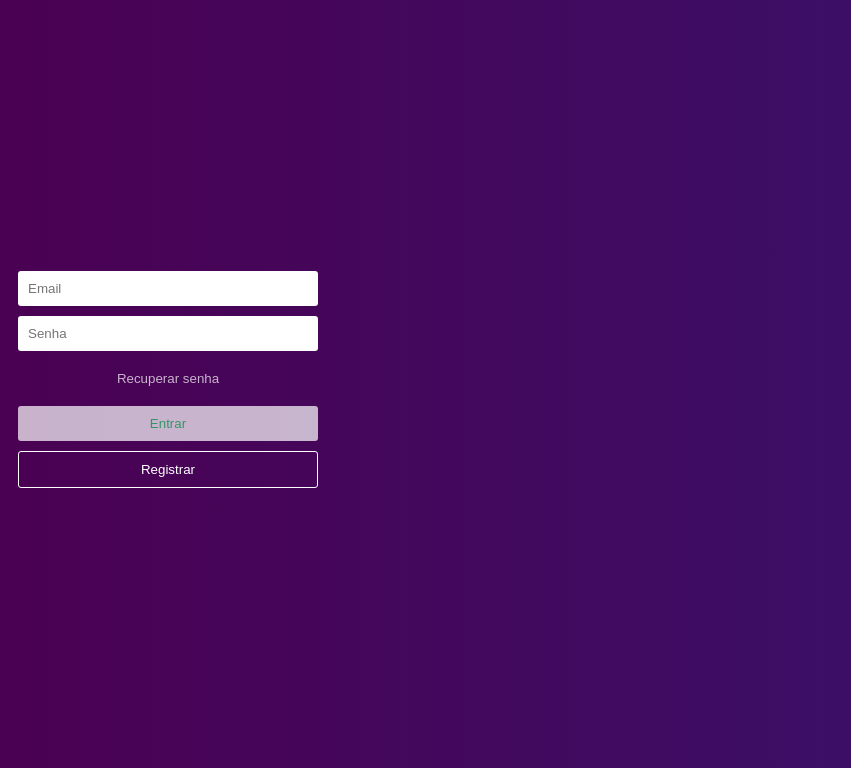
Scenario: Login › given email › when empty, then show required error message
Type "anyValue" into the field with test id "email".
click(168, 288); type("anyValue")  # box [18,270,318,306]
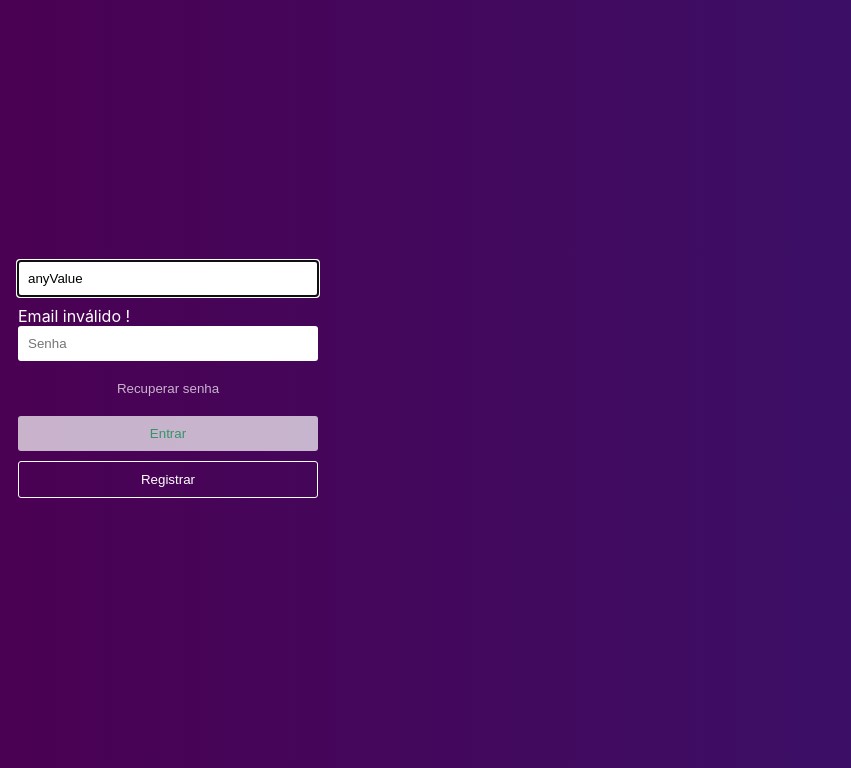
Clear the field with test id "email" at (168, 278), box [18,260,318,296]
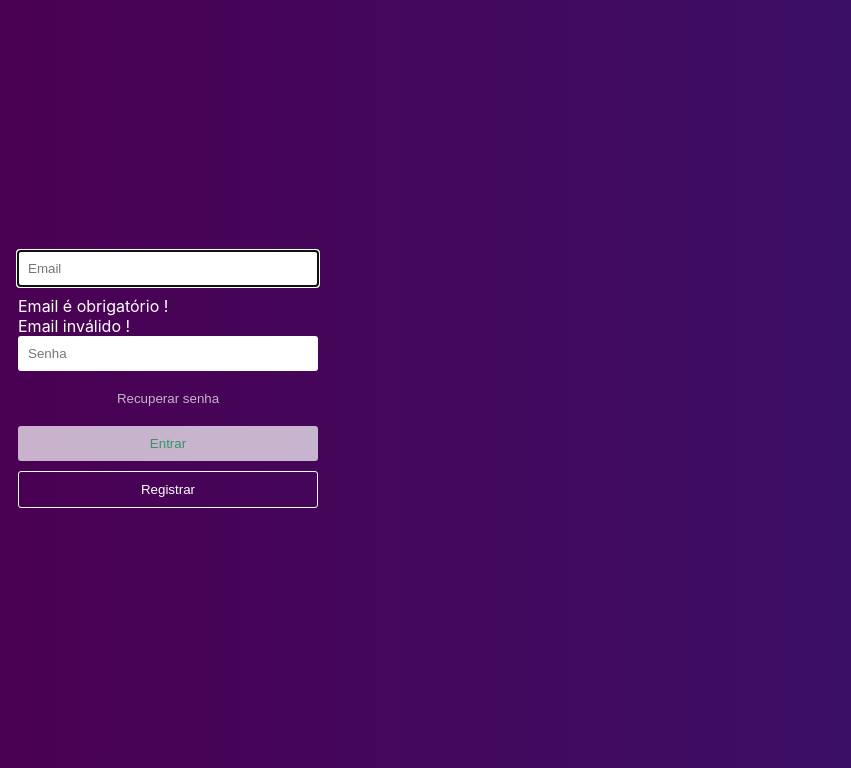
Check: the text "Email é obrigatório !" is shown, box [18,296,168,316]
